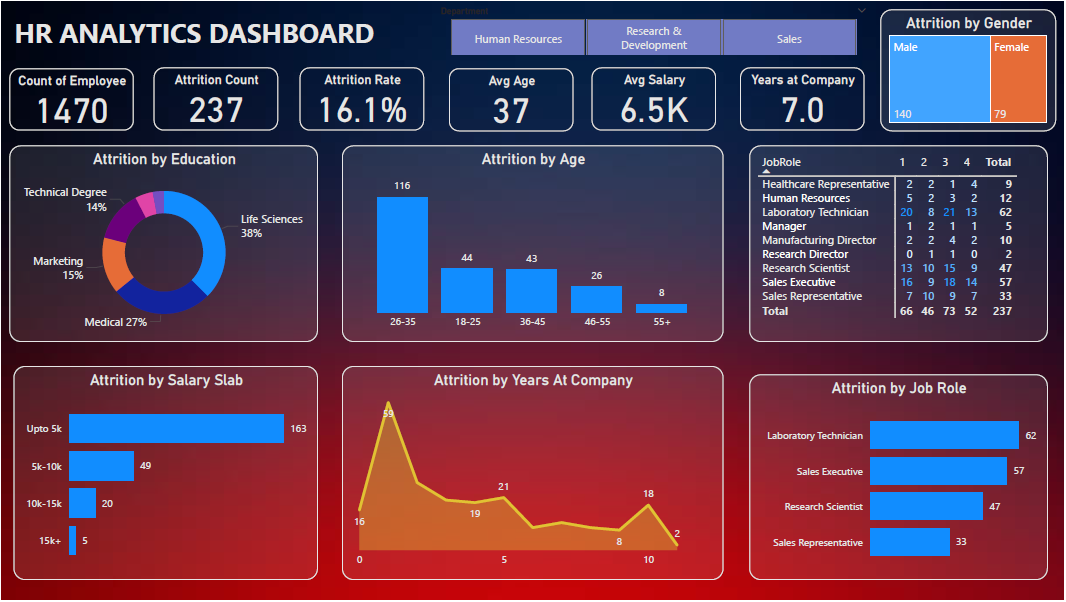

What the dashboard file says about the page in this screenshot:
{"tool":"powerbi","page":{"name":"Page 1","canvas":[1280,720],"ordinal":0},"visuals":[{"type":"textbox","box":[10,8.6,455.7,54.3],"z":0},{"type":"card","title":"Count of Employee","fields":{"Values":["CountNonNull(HR_Analytics.EmpID)"]},"box":[8.6,80.4,150,75],"z":1000},{"type":"card","title":"Avg Salary","fields":{"Values":["Avg(HR_Analytics.MonthlyIncome)"]},"box":[711.4,78.9,150,75.7],"z":2000},{"type":"card","title":"Avg Age","fields":{"Values":["Avg(HR_Analytics.Age)"]},"box":[538.6,80.4,150,75.7],"z":3000},{"type":"card","title":"Attrition Rate","fields":{"Values":["HR_Analytics.AttrtionRate"]},"box":[358.6,78.9,150,75.7],"z":4000},{"type":"card","title":"Attrition Count","fields":{"Values":["Sum(HR_Analytics.AttritionCount)"]},"box":[182.9,78.9,150,75.7],"z":5000},{"type":"card","title":"Years at Company","fields":{"Values":["Avg(HR_Analytics.YearsAtCompany)"]},"box":[890,78.9,150,75.7],"z":6000},{"type":"donutChart","title":"Attrition by Education","fields":{"Category":["HR_Analytics.EducationField"],"Y":["Sum(HR_Analytics.AttritionCount)"]},"box":[8.6,172.9,372.9,237.1],"z":7000},{"type":"columnChart","title":"Attrition by Age","fields":{"Category":["HR_Analytics.AgeGroup"],"Y":["Sum(HR_Analytics.AttritionCount)"]},"box":[410,172.9,460,237.1],"z":8000},{"type":"pivotTable","fields":{"Rows":["HR_Analytics.JobRole"],"Columns":["HR_Analytics.JobSatisfaction"],"Values":["Sum(HR_Analytics.AttritionCount)"]},"box":[901.4,172.9,360,237.1],"z":9000},{"type":"barChart","title":"Attrition by Salary Slab","fields":{"Category":["HR_Analytics.SalarySlab"],"Y":["Sum(HR_Analytics.AttritionCount)"]},"box":[14.3,438.6,367.1,258.6],"z":10000},{"type":"barChart","title":"Attrition by Job Role","fields":{"Y":["Sum(HR_Analytics.AttritionCount)"],"Category":["HR_Analytics.JobRole"]},"box":[901.4,448.6,360,248.6],"z":11000},{"type":"areaChart","title":"Attrition by Years At Company","fields":{"Category":["HR_Analytics.YearsAtCompany"],"Y":["Sum(HR_Analytics.AttritionCount)"]},"box":[410,438.6,460,258.6],"z":12000},{"type":"treemap","title":"Attrition by Gender","fields":{"Group":["HR_Analytics.Gender"],"Values":["Sum(HR_Analytics.AttritionCount)"]},"box":[1058.8,8.8,212.5,147.5],"z":13000},{"type":"slicer","fields":{"Values":["HR_Analytics.Department"]},"box":[515.7,0,538.6,64.3],"z":14000}]}

Visuals, with their boxes in screenshot pixels (x1, y1, x2, y2), scaled from the page's 1280x720 canvas onto the 1066x602 screenshot:
textbox: select_region(8, 7, 388, 53)
"Count of Employee" card: select_region(7, 67, 132, 130)
"Avg Salary" card: select_region(592, 66, 717, 129)
"Avg Age" card: select_region(449, 67, 573, 131)
"Attrition Rate" card: select_region(299, 66, 424, 129)
"Attrition Count" card: select_region(152, 66, 277, 129)
"Years at Company" card: select_region(741, 66, 866, 129)
"Attrition by Education" donutChart: select_region(7, 145, 318, 343)
"Attrition by Age" columnChart: select_region(341, 145, 725, 343)
pivotTable - HR_Analytics.JobRole x HR_Analytics.JobSatisfaction: select_region(751, 145, 1051, 343)
"Attrition by Salary Slab" barChart: select_region(12, 367, 318, 583)
"Attrition by Job Role" barChart: select_region(751, 375, 1051, 583)
"Attrition by Years At Company" areaChart: select_region(341, 367, 725, 583)
"Attrition by Gender" treemap: select_region(882, 7, 1059, 131)
slicer - HR_Analytics.Department: select_region(429, 0, 878, 54)
